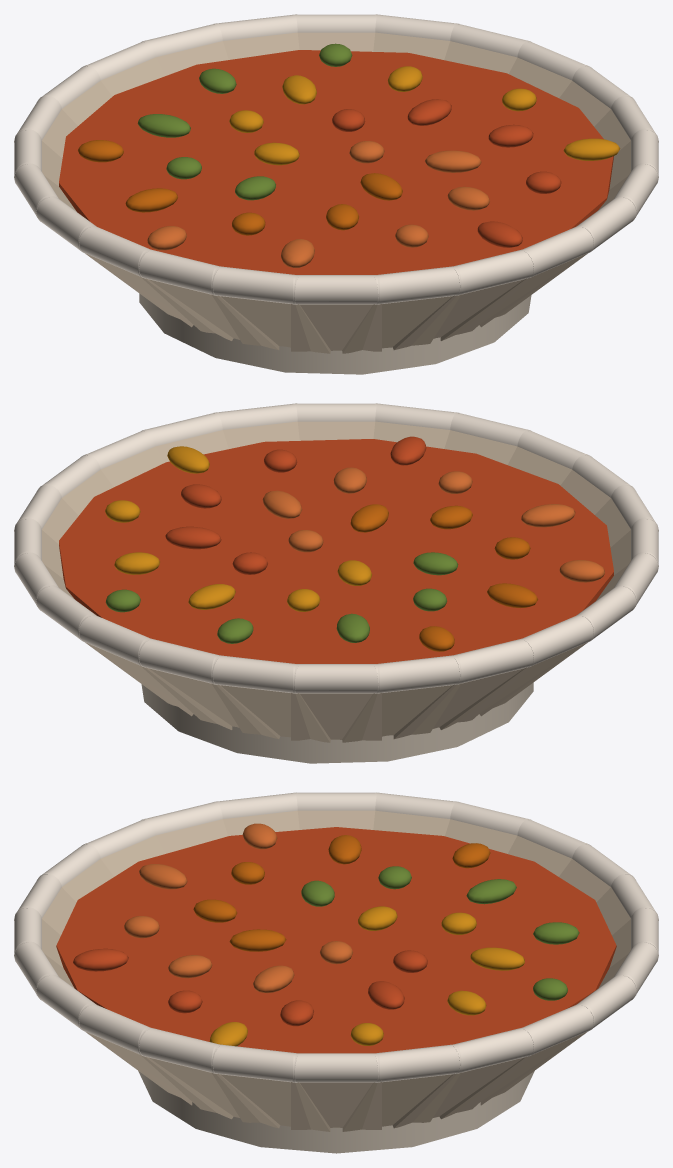
The model's file is CMU3DFoodSoupBisqueCloud.glb.
The picture shows the model from 3 angles, top to bottom: view 1: azimuth 30°, elevation 25°; view 2: azimuth 150°, elevation 25°; view 3: azimuth 270°, elevation 25°; orthographic projection.
Visible parts, largest first — view 1: bisque liquid surface, closed ceramic basin floor, flared hollow ceramic wall 17, flared hollow ceramic wall 16, flared hollow ceramic wall 18, rolled ceramic rim 17, rolled ceramic rim 18, rolled ceramic rim 16, flared hollow ceramic wall 19, flared hollow ceramic wall 15, rolled ceramic rim 15, rolled ceramic rim 19 (+61 smaller); view 2: bisque liquid surface, closed ceramic basin floor, flared hollow ceramic wall 09, flared hollow ceramic wall 08, flared hollow ceramic wall 10, rolled ceramic rim 09, rolled ceramic rim 08, rolled ceramic rim 10, flared hollow ceramic wall 07, flared hollow ceramic wall 11, rolled ceramic rim 07, rolled ceramic rim 11 (+61 smaller); view 3: bisque liquid surface, closed ceramic basin floor, flared hollow ceramic wall 01, flared hollow ceramic wall 02, flared hollow ceramic wall 24, rolled ceramic rim 01, rolled ceramic rim 02, rolled ceramic rim 24, flared hollow ceramic wall 03, flared hollow ceramic wall 23, rolled ceramic rim 03, rolled ceramic rim 23 (+61 smaller).
Boxes of the visible parts, left/top/right/bottom form: bisque liquid surface: left=59, top=50, right=613, bottom=274; closed ceramic basin floor: left=139, top=293, right=531, bottom=374; flared hollow ceramic wall 17: left=291, top=304, right=381, bottom=351; flared hollow ceramic wall 16: left=211, top=294, right=330, bottom=353; flared hollow ceramic wall 18: left=342, top=294, right=461, bottom=353; rolled ceramic rim 17: left=293, top=275, right=379, bottom=304; rolled ceramic rim 18: left=374, top=266, right=461, bottom=304; rolled ceramic rim 16: left=211, top=266, right=298, bottom=304; flared hollow ceramic wall 19: left=392, top=277, right=531, bottom=350; flared hollow ceramic wall 15: left=141, top=277, right=279, bottom=350; rolled ceramic rim 15: left=138, top=249, right=219, bottom=295; rolled ceramic rim 19: left=453, top=249, right=534, bottom=295; bisque liquid surface: left=59, top=439, right=613, bottom=663; closed ceramic basin floor: left=141, top=682, right=533, bottom=763; flared hollow ceramic wall 09: left=291, top=693, right=381, bottom=740; flared hollow ceramic wall 08: left=211, top=683, right=330, bottom=742; flared hollow ceramic wall 10: left=342, top=683, right=461, bottom=742; rolled ceramic rim 09: left=293, top=664, right=379, bottom=693; rolled ceramic rim 08: left=211, top=655, right=298, bottom=693; rolled ceramic rim 10: left=374, top=655, right=461, bottom=693; flared hollow ceramic wall 07: left=141, top=666, right=280, bottom=739; flared hollow ceramic wall 11: left=393, top=666, right=531, bottom=739; rolled ceramic rim 07: left=138, top=638, right=219, bottom=684; rolled ceramic rim 11: left=453, top=638, right=534, bottom=684; bisque liquid surface: left=56, top=827, right=616, bottom=1053; closed ceramic basin floor: left=138, top=1071, right=534, bottom=1153; flared hollow ceramic wall 01: left=291, top=1082, right=381, bottom=1129; flared hollow ceramic wall 02: left=342, top=1072, right=461, bottom=1131; flared hollow ceramic wall 24: left=211, top=1072, right=330, bottom=1131; rolled ceramic rim 01: left=293, top=1053, right=379, bottom=1082; rolled ceramic rim 02: left=375, top=1044, right=461, bottom=1082; rolled ceramic rim 24: left=211, top=1044, right=297, bottom=1082; flared hollow ceramic wall 03: left=392, top=1055, right=531, bottom=1128; flared hollow ceramic wall 23: left=141, top=1055, right=280, bottom=1128; rolled ceramic rim 03: left=453, top=1027, right=534, bottom=1073; rolled ceramic rim 23: left=138, top=1027, right=219, bottom=1073.
Size of the model in its own units: 0.7324 by 0.2 by 0.7324.
